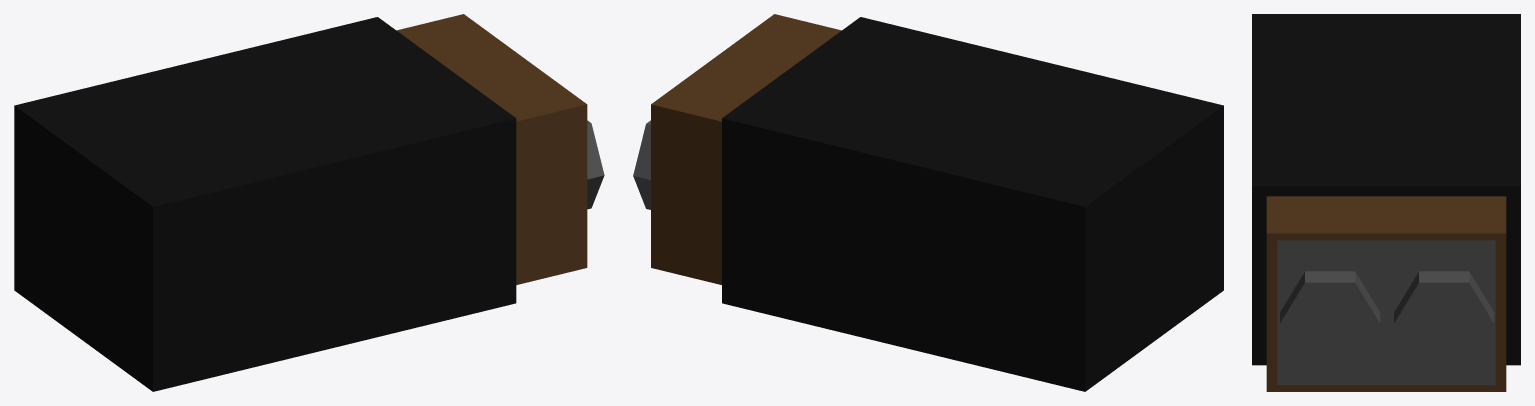
Rendered from battery.fbx.
The picture shows the model from 3 angles, left to right: view 1: azimuth 30°, elevation 25°; view 2: azimuth 150°, elevation 25°; view 3: azimuth 270°, elevation 25°; orthographic projection. The views are drawn at different scales.
Visible parts, largest first — view 1: Cube.001, Cube, Cylinder; view 2: Cube.001, Cube, Cylinder.001; view 3: Cube.001, Cube, Cylinder, Cylinder.001.
Boxes of the visible parts, <box> form: Cube.001: <box>14,17,516,391</box>; Cube: <box>396,14,587,284</box>; Cylinder: <box>587,120,604,209</box>; Cube.001: <box>722,17,1223,391</box>; Cube: <box>651,14,841,284</box>; Cylinder.001: <box>633,120,650,209</box>; Cube.001: <box>1252,14,1520,365</box>; Cube: <box>1266,196,1506,391</box>; Cylinder: <box>1280,271,1380,365</box>; Cylinder.001: <box>1394,271,1494,365</box>.
Size of the model in its own units: 69.41 by 26.34 by 35.78.
